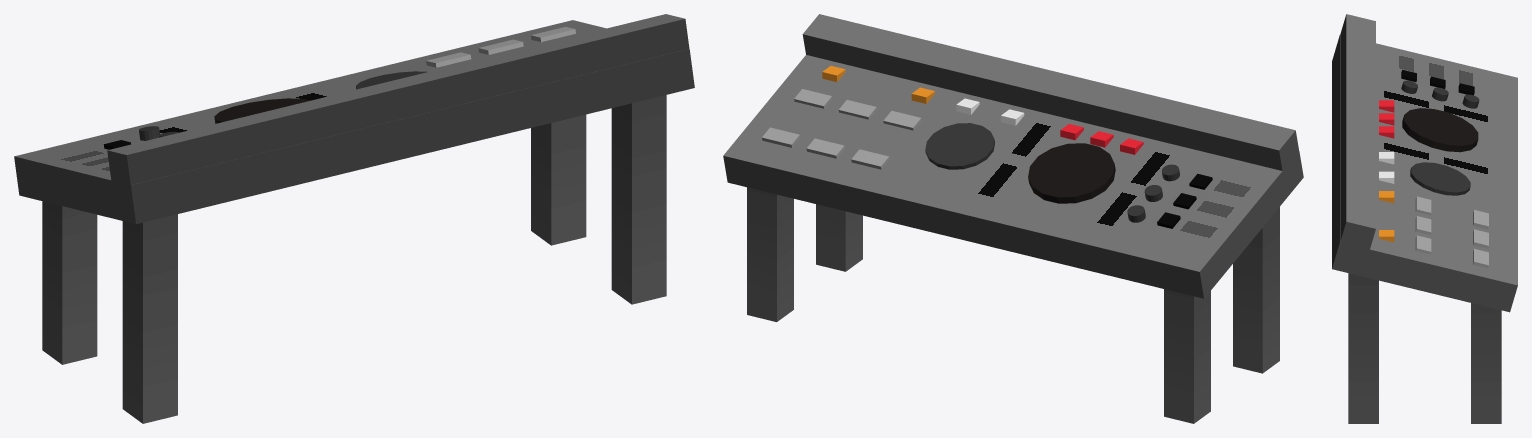
The model's file is tardis_stand.obj.
3 renders of one model, left to right at view 1: azimuth 30°, elevation 25°; view 2: azimuth 150°, elevation 25°; view 3: azimuth 270°, elevation 25°, orthographic. The views are drawn at different scales.
Visible parts, largest first — view 1: Surface, BackBar, RLegBack, LLegBack, RLegFront, LLegFront, TwistyThing; view 2: Surface, BackBar, RLegBack, RLegFront, LLegFront, TwistyThing, LLegBack, Monitor; view 3: Surface, BackBar, LLegBack, LLegFront, TwistyThing, Monitor, BarTwo, BarSix, BarFour, BarThree, BarOne, BarFive (+3 smaller).
Boxes of the visible parts, x1,y1,x2,y2 form: Surface: (14,20,694,224); BackBar: (107,14,689,193); RLegBack: (122,214,177,423); LLegBack: (611,95,666,304); RLegFront: (42,201,97,364); LLegFront: (531,114,586,245); TwistyThing: (214,98,309,123); Surface: (723,55,1303,298); BackBar: (802,14,1298,170); RLegBack: (1233,207,1279,373); RLegFront: (1164,289,1210,423); LLegFront: (747,187,793,321); TwistyThing: (1028,143,1115,203); LLegBack: (816,204,862,271); Monitor: (925,123,994,169); Surface: (1332,35,1517,312); BackBar: (1339,14,1375,255); LLegBack: (1348,273,1378,423); LLegFront: (1471,303,1501,423); TwistyThing: (1402,108,1478,152); Monitor: (1410,162,1470,195); BarTwo: (1415,196,1431,215); BarSix: (1415,235,1431,254); BarFour: (1415,216,1431,234); BarThree: (1473,229,1488,248); BarOne: (1473,210,1488,229); BarFive: (1473,249,1488,268).
Size of the model in its own units: 2 by 0.9372 by 0.7568.
